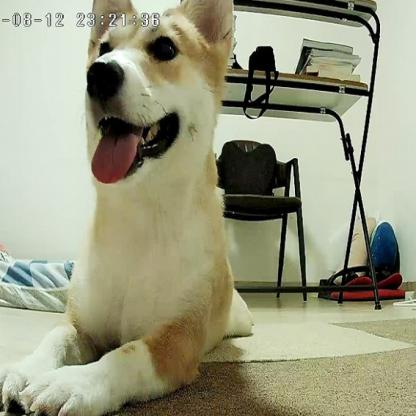dog: (9, 0, 256, 411)
